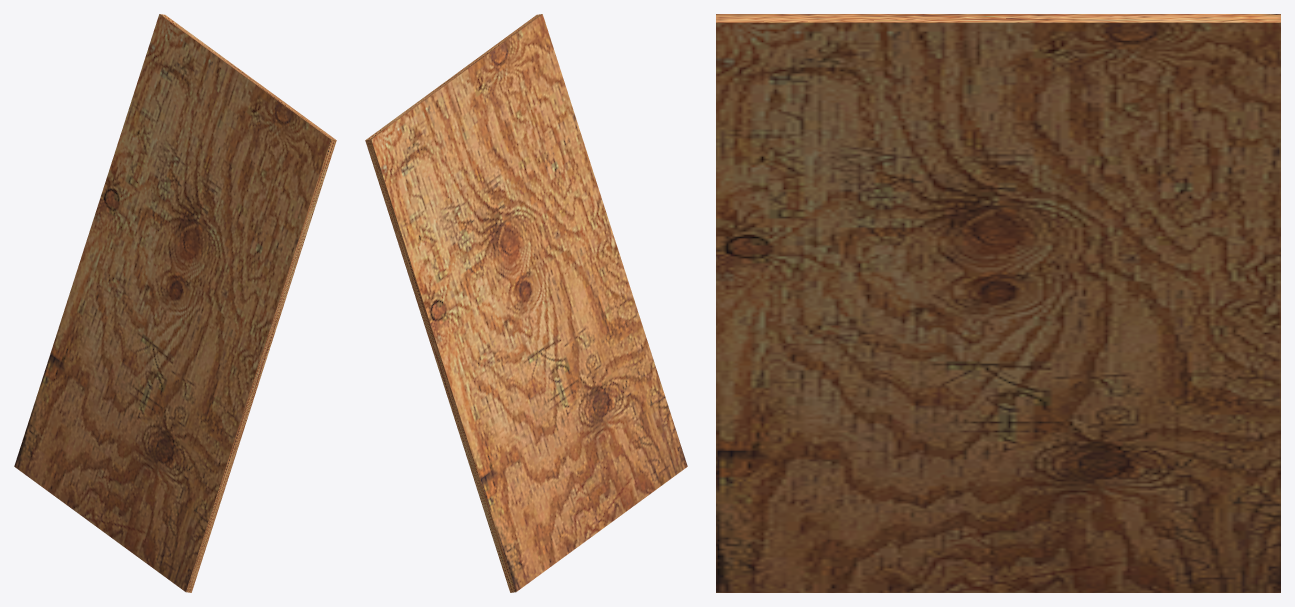
File: plywood_med_upright.fbx
3 views of the same model, side by side, from view 1: azimuth 30°, elevation 25°; view 2: azimuth 150°, elevation 25°; view 3: azimuth 270°, elevation 25° (orthographic). The views are drawn at different scales.
Visible parts, largest first — view 1: mesh_0; view 2: mesh_0; view 3: mesh_0.
Boxes of the visible parts, left/top/right/bottom form: mesh_0: left=14, top=14, right=336, bottom=592; mesh_0: left=365, top=14, right=687, bottom=592; mesh_0: left=716, top=14, right=1280, bottom=592.
Size of the model in its own units: 71.22 by 189 by 140.
1 material, 1 textured.
